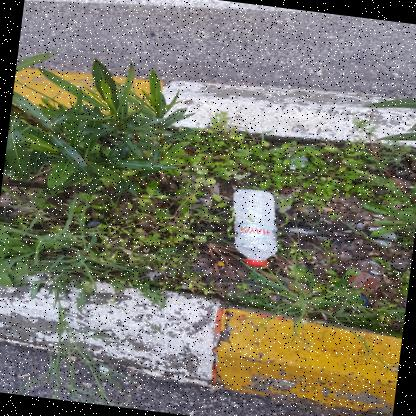Clear plastic bottle: (233, 189, 278, 266)
Other plastic bottle: (360, 294, 368, 307)
Plastic bottle cap: (245, 260, 268, 266)
Plastic film: (289, 227, 332, 238)
Unlabeled litter: (287, 146, 307, 167), (372, 231, 395, 247), (368, 226, 383, 231), (321, 206, 334, 211)
